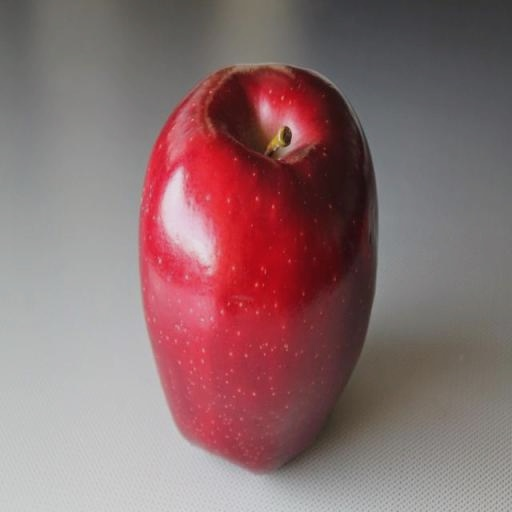fruit: (140, 65, 376, 471)
